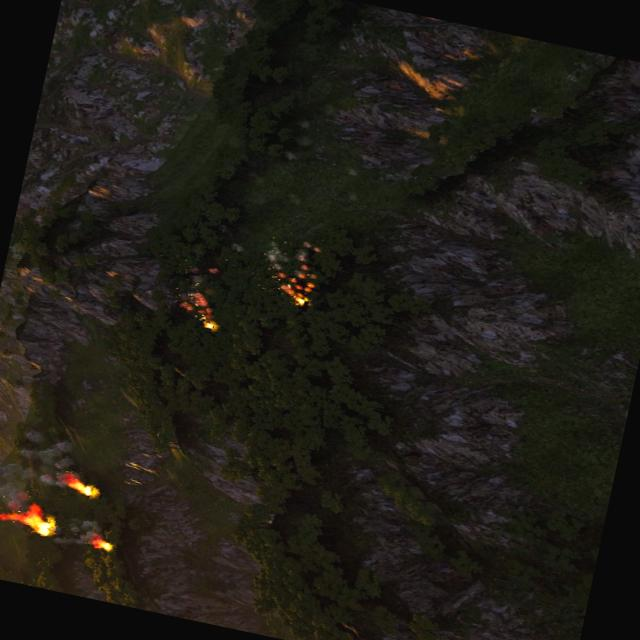fire: (0, 494, 60, 536), (272, 258, 320, 307), (182, 290, 228, 330), (66, 474, 100, 498), (90, 534, 114, 550), (202, 319, 221, 332)
smoke: (0, 417, 85, 540), (55, 512, 104, 550)
